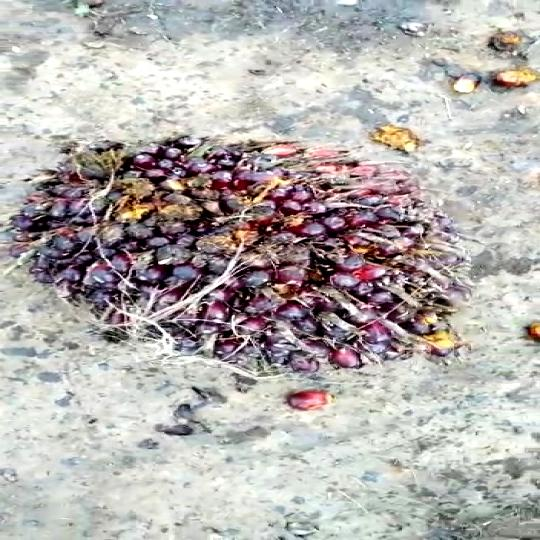masak: (17, 137, 468, 376)
